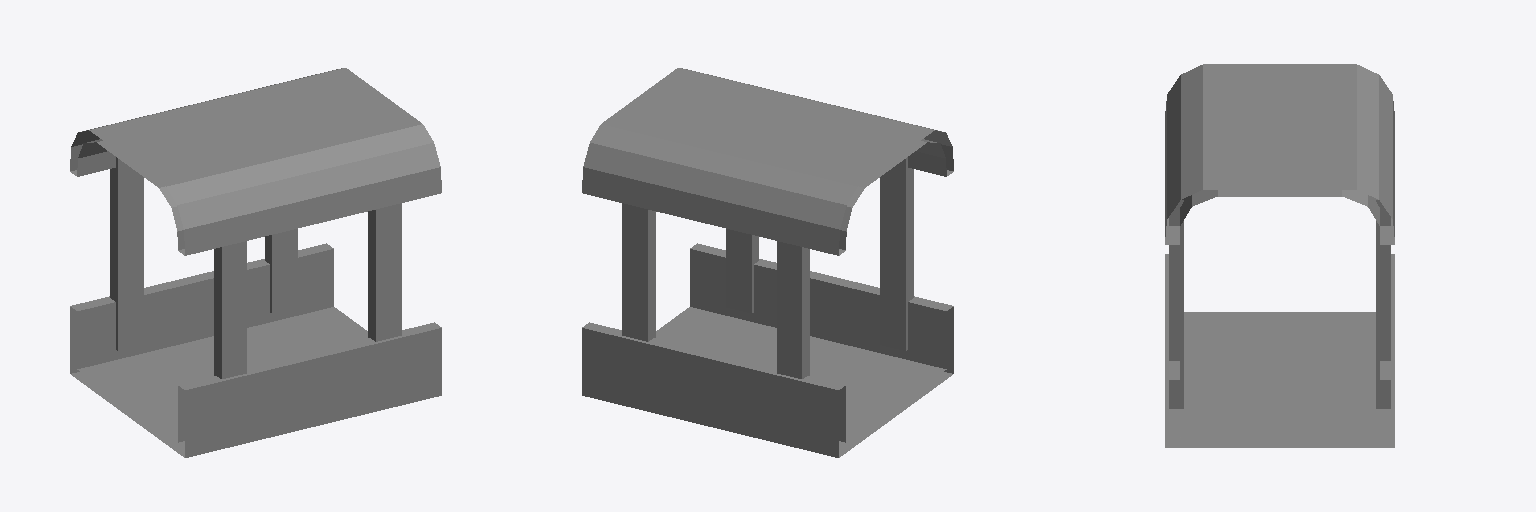
File: worldtile37.obj
3 views of the same model, side by side, from view 1: azimuth 30°, elevation 25°; view 2: azimuth 150°, elevation 25°; view 3: azimuth 270°, elevation 25° (orthographic).
Parts seen in each view (by area): view 1: objRegroup06, objRegroup01; view 2: objRegroup06, objRegroup01; view 3: objRegroup06, objRegroup01.
Boxes of the visible parts, x1,y1,x2,y2 form: objRegroup06: [70, 68, 441, 457]; objRegroup01: [77, 307, 367, 442]; objRegroup06: [582, 68, 953, 457]; objRegroup01: [656, 249, 946, 442]; objRegroup06: [1165, 64, 1394, 447]; objRegroup01: [1180, 312, 1379, 436].
Bounding box in the file's own units: 10 × 9.59 × 7.77.